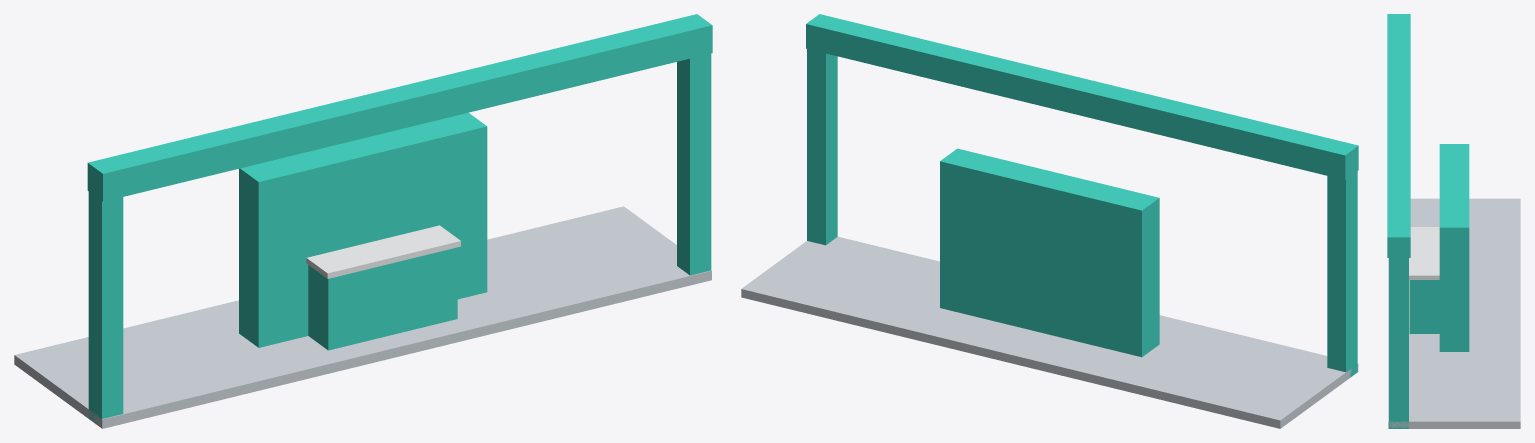
3 views of the same model, side by side, from view 1: azimuth 30°, elevation 25°; view 2: azimuth 150°, elevation 25°; view 3: azimuth 270°, elevation 25° (orthographic). The views are drawn at different scales.
Visible parts, largest first — view 1: Exhibition Booth Concept; view 2: Exhibition Booth Concept; view 3: Exhibition Booth Concept.
Part boxes in pixels (<box>): Exhibition Booth Concept: <box>14,14,712,428</box>; Exhibition Booth Concept: <box>741,14,1358,428</box>; Exhibition Booth Concept: <box>1387,14,1520,428</box>.
Bounding box in the file's own units: 8 × 3.2 × 2.01.
